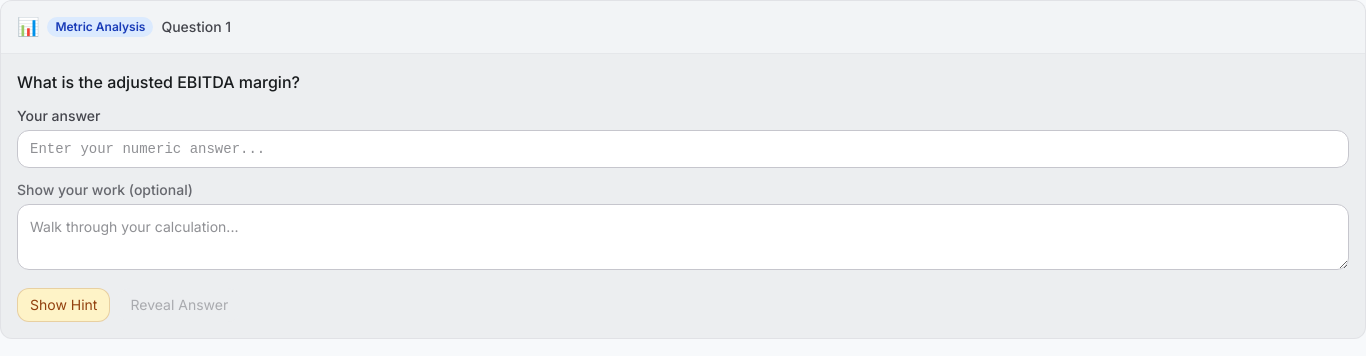
QuestionCard commit-first gating (quantitative) › enables Reveal Answer once a numeric answer is entered
In the number field with placeholder "Enter your numeric answer...": x=683, y=149 [17,130,1349,168], type "16.9"
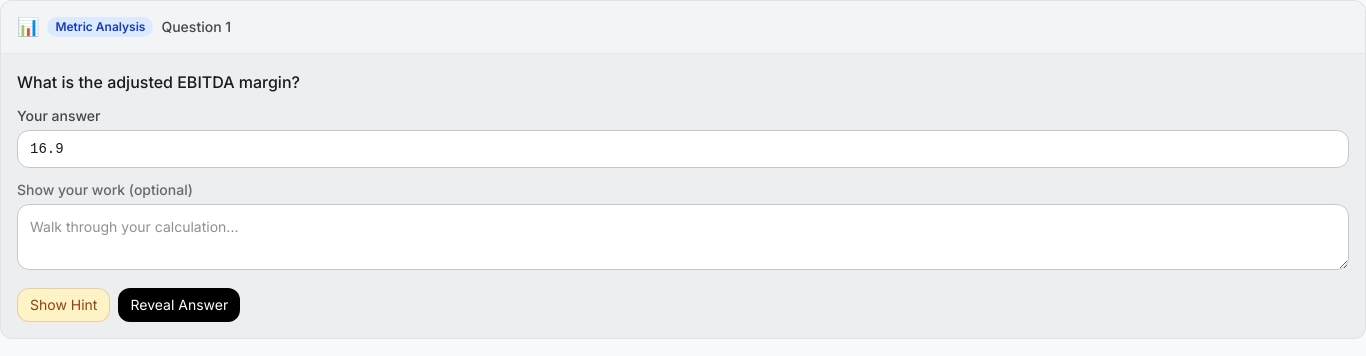
Check: the button "Reveal Answer" is enabled, box [118,288,240,322]
